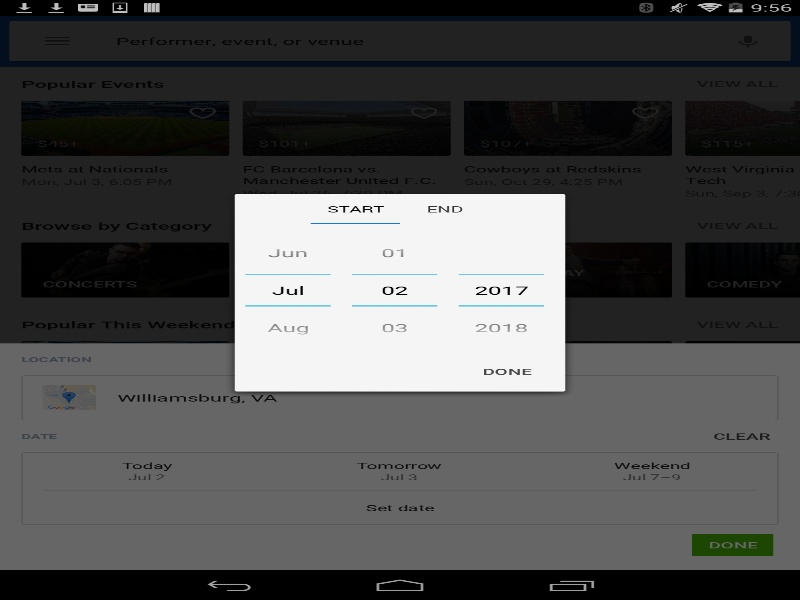Button: (458, 305, 544, 346), (448, 356, 565, 386), (245, 234, 330, 275), (245, 305, 330, 346), (352, 234, 437, 275), (352, 305, 437, 346)
Input: (458, 275, 544, 305), (245, 275, 330, 305), (352, 275, 437, 305)
